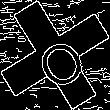O_NW: (23, 22, 87, 88)
